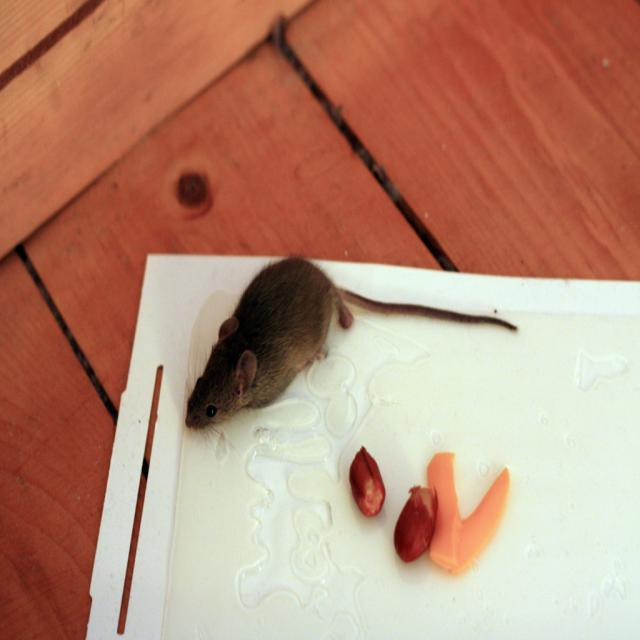rat: (183, 254, 517, 446)
